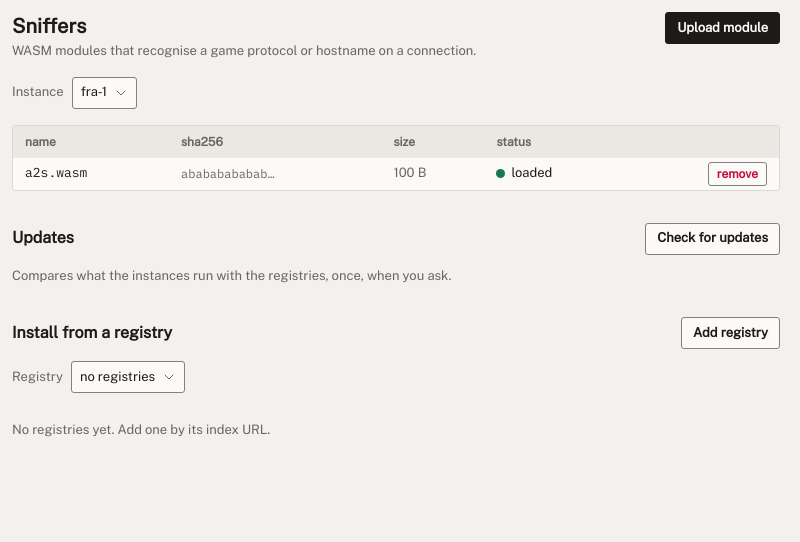
SniffersPage updates and rollback › says up to date when every registry answered
Click the button "Check for updates" at [713, 239], box [645, 223, 780, 255]
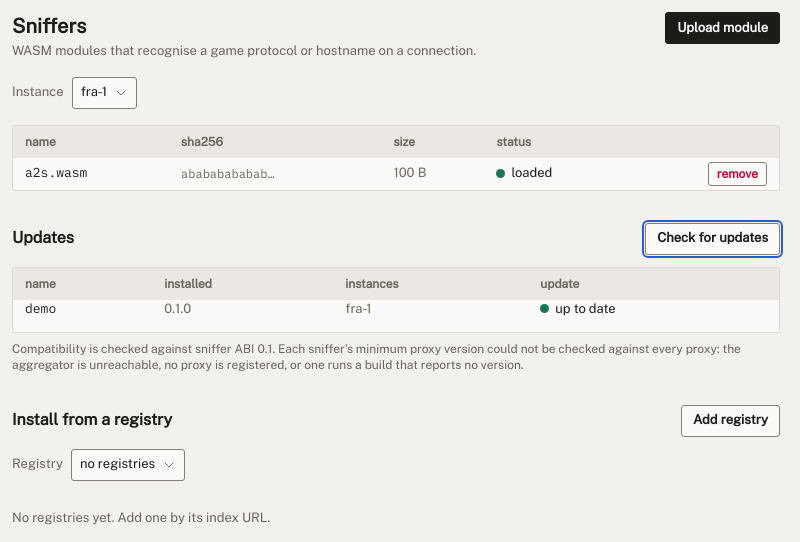
Check: the text "up to date" is shown, box [540, 300, 616, 318]
